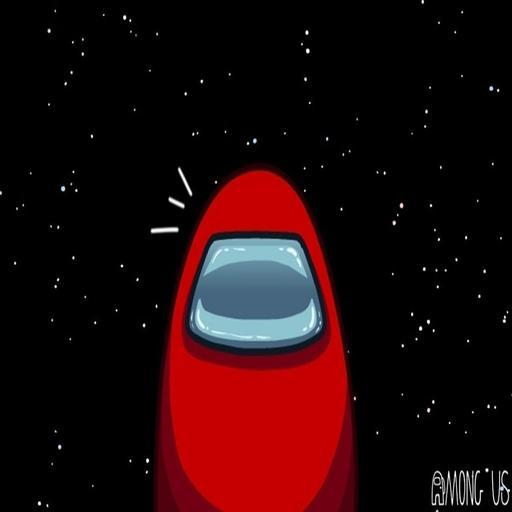Crewmate: (157, 165, 351, 511)
